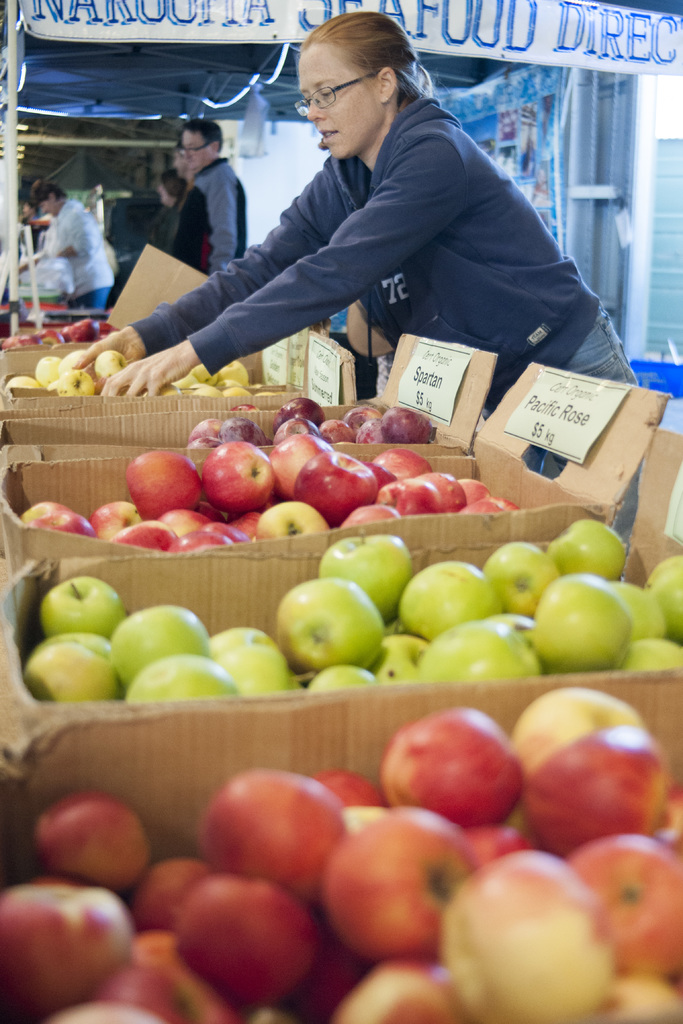Apple: (0, 688, 682, 1023), (20, 530, 682, 696), (17, 432, 517, 547), (272, 575, 396, 684), (6, 349, 278, 396), (183, 397, 431, 444), (0, 319, 118, 347)
